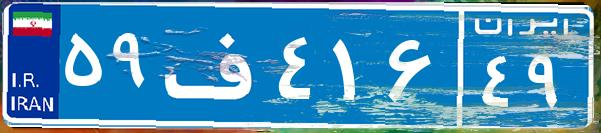1: (330, 28, 385, 110)
4: (273, 28, 330, 110), (475, 38, 525, 113)
5: (57, 26, 110, 107)
6: (385, 28, 445, 110)
9: (110, 28, 158, 105), (525, 38, 570, 115)
ف: (158, 15, 273, 115)
